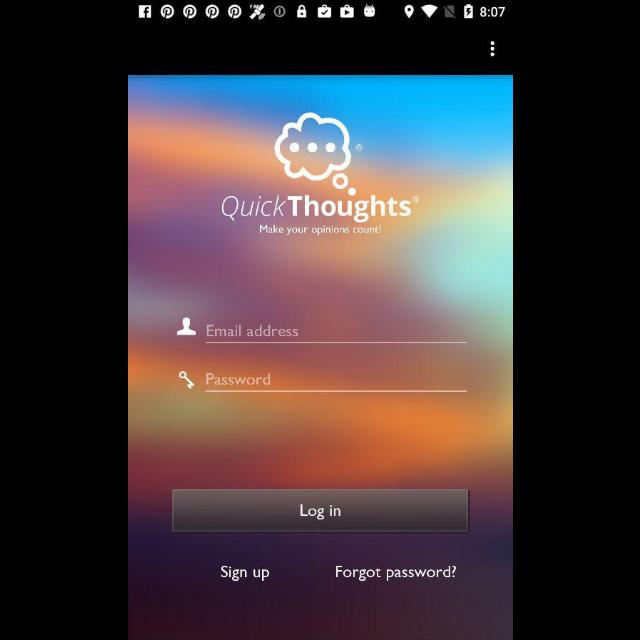icon: (177, 318, 196, 336), (490, 42, 494, 58)
image: (220, 111, 418, 223), (179, 371, 195, 389)
input: (206, 372, 467, 392), (206, 324, 467, 344)
text: (336, 565, 456, 581), (259, 225, 381, 237), (206, 324, 298, 336), (220, 565, 270, 581), (206, 373, 270, 385)
textbutton: (171, 488, 469, 532)
uppertaskbar: (128, 1, 512, 23)
